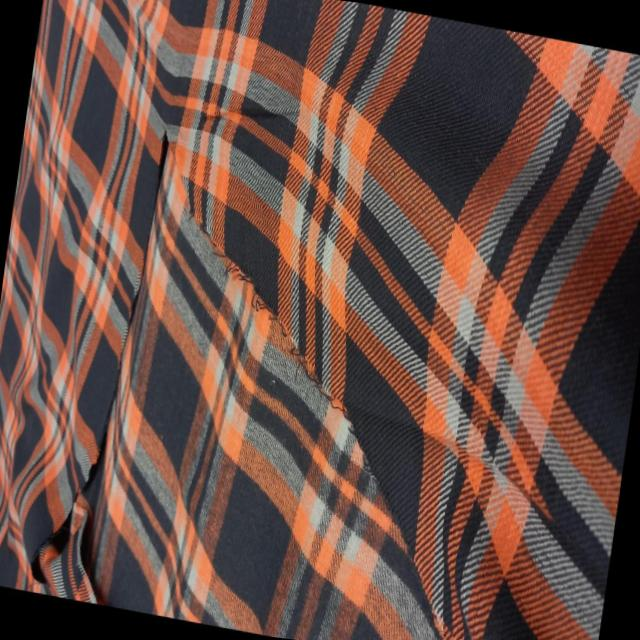cut: (58, 132, 338, 637)
